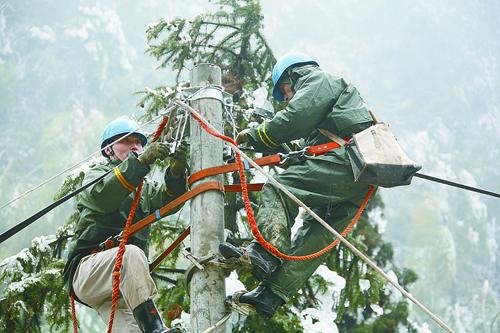blue: (96, 114, 147, 168), (270, 53, 317, 105)
